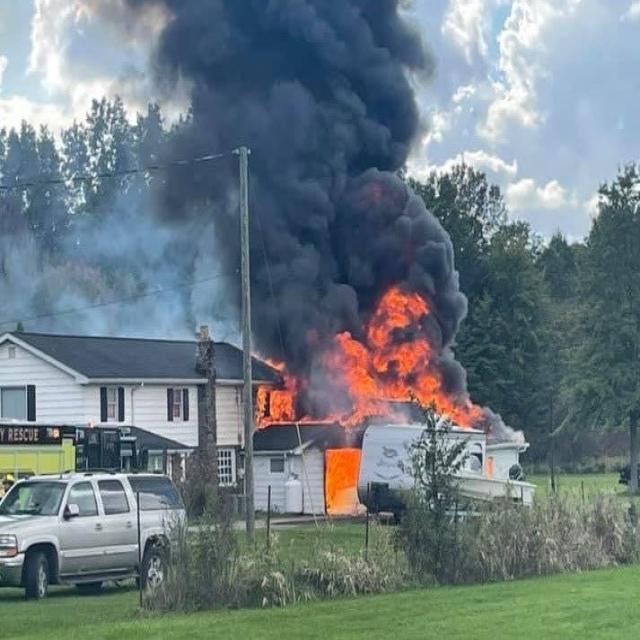Fire: (328, 453, 356, 506), (350, 342, 366, 394), (390, 294, 423, 312)
Smoke: (174, 8, 412, 294)
